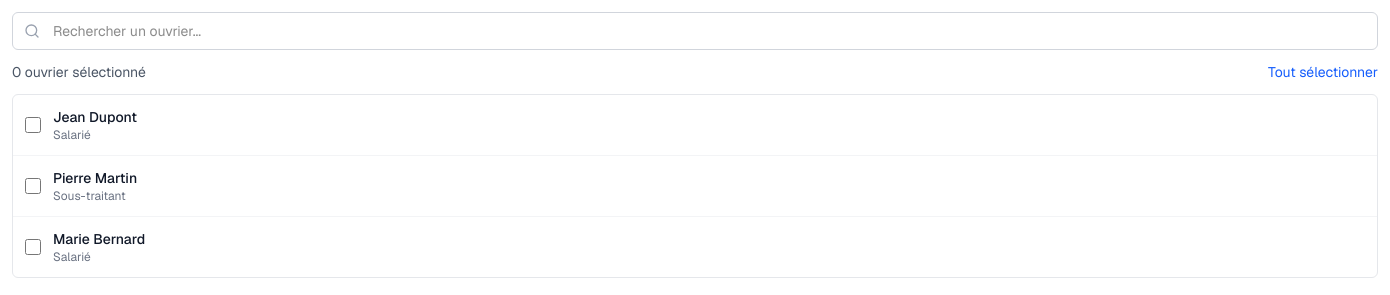
Scenario: SelectionOuvriersChantier › filtre avec le nom complet
The width and height of the screenshot is (1390, 295).
Type "Jean Dupont" into the field with placeholder "Rechercher un ouvrier..." at (695, 31), box [12,12,1378,50]
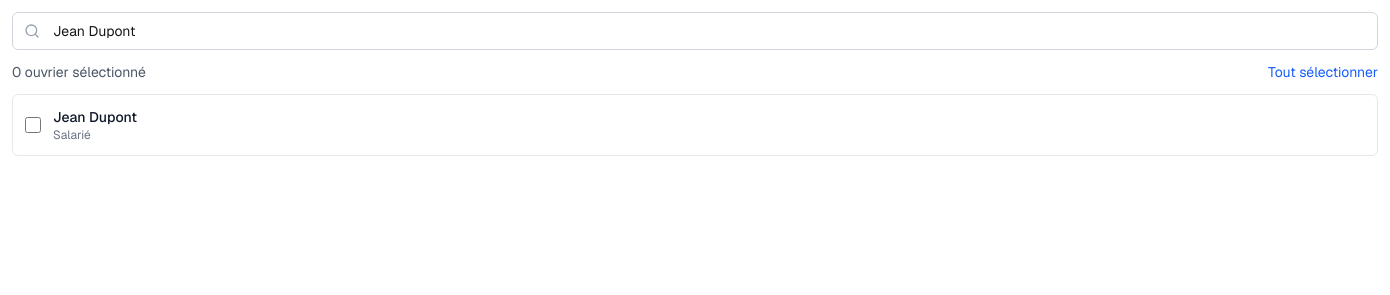
Expected: the text "Jean Dupont" is shown, [53,107,137,127]
Now the text "Pierre Martin" is gone
